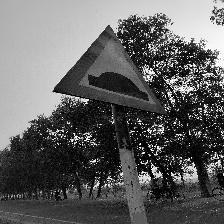Speed-breaker: (53, 24, 168, 114)
